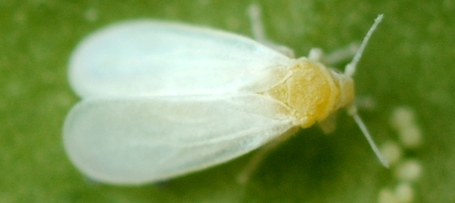Tobacco Whitefly: (38, 3, 376, 173)
